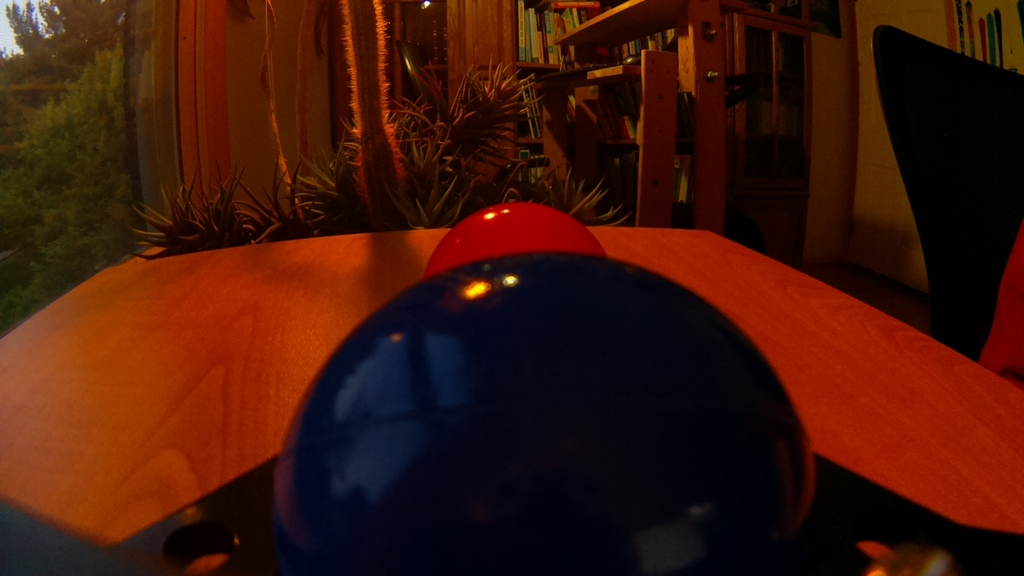ball: (412, 200, 610, 280)
